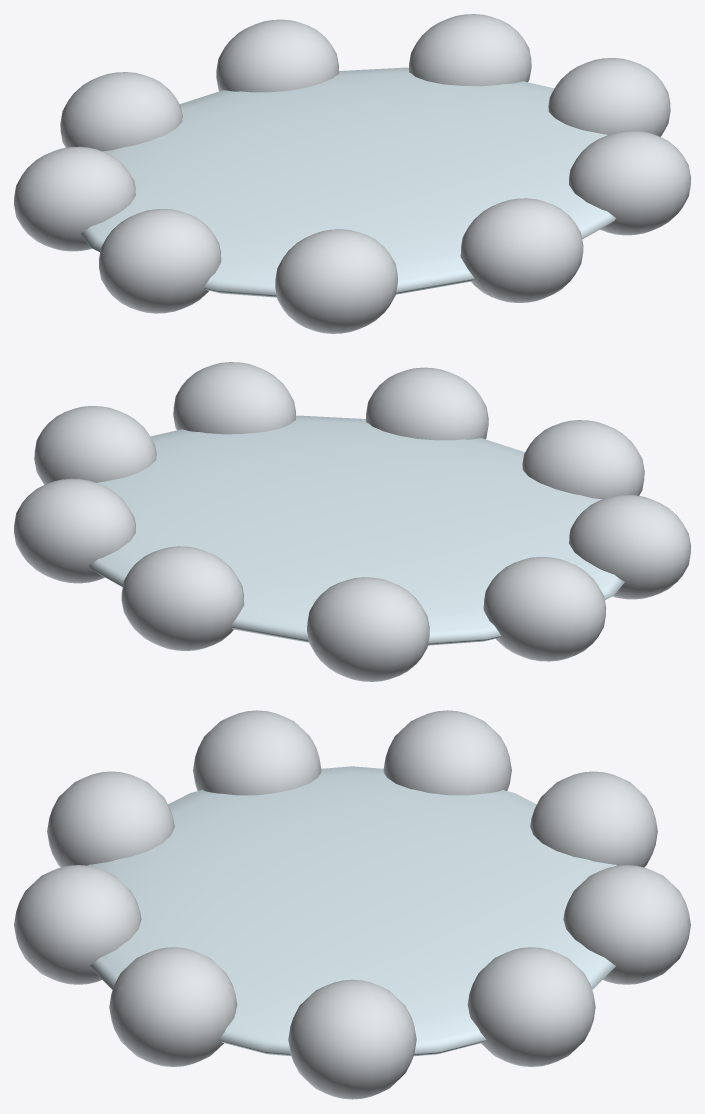
File: pond.glb
The picture shows the model from 3 angles, top to bottom: view 1: azimuth 30°, elevation 25°; view 2: azimuth 150°, elevation 25°; view 3: azimuth 270°, elevation 25°; orthographic projection. The views are drawn at different scales.
Parts seen in each view (by area): view 1: water, pebble3, pebble2, pebble4, pebble1, pebble5, pebble0, pebble6, pebble8, pebble7; view 2: water, pebble6, pebble7, pebble5, pebble8, pebble4, pebble0, pebble3, pebble1, pebble2; view 3: water, pebble0, pebble1, pebble8, pebble2, pebble7, pebble3, pebble6, pebble4, pebble5.
Boxes of the visible parts, x1,y1,x2,y2 form: water: [80, 67, 616, 297]; pebble3: [275, 229, 397, 333]; pebble2: [460, 198, 583, 302]; pebble4: [99, 209, 221, 313]; pebble1: [569, 130, 690, 235]; pebble5: [14, 146, 135, 251]; pebble0: [548, 58, 670, 136]; pebble6: [60, 72, 182, 151]; pebble8: [409, 14, 531, 86]; pebble7: [216, 19, 338, 92]; water: [88, 415, 624, 645]; pebble6: [307, 577, 429, 681]; pebble7: [121, 546, 244, 650]; pebble5: [483, 557, 605, 661]; pebble8: [14, 478, 135, 583]; pebble4: [569, 494, 690, 599]; pebble0: [34, 406, 156, 484]; pebble3: [522, 420, 644, 499]; pebble1: [173, 362, 295, 434]; pebble2: [366, 367, 488, 440]; water: [88, 766, 616, 1056]; pebble0: [288, 979, 416, 1099]; pebble1: [109, 947, 237, 1066]; pebble8: [467, 947, 595, 1066]; pebble2: [14, 865, 141, 984]; pebble7: [563, 865, 690, 984]; pebble3: [47, 771, 174, 867]; pebble6: [530, 771, 657, 867]; pebble4: [193, 710, 321, 795]; pebble5: [383, 710, 511, 795].
Size of the model in its own units: 1.09 by 0.16 by 0.9482.
